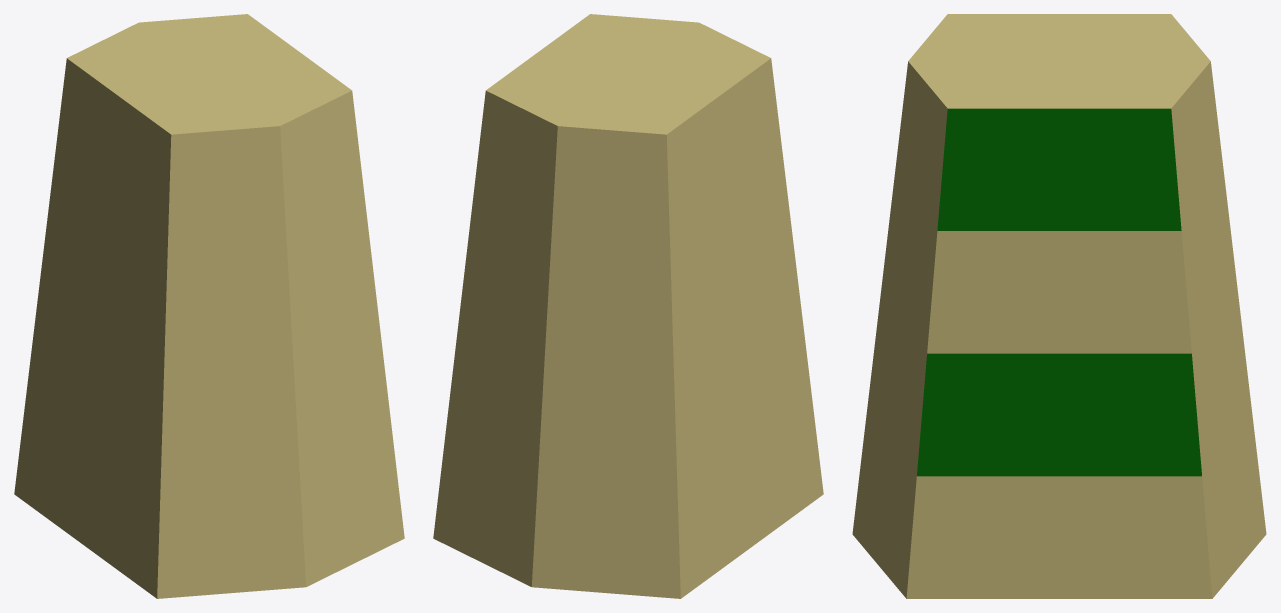
File: ScoutTorso.fbx
3 renders of one model, left to right at view 1: azimuth 30°, elevation 25°; view 2: azimuth 150°, elevation 25°; view 3: azimuth 270°, elevation 25°, orthographic. The views are drawn at different scales.
Visible parts, largest first — view 1: Scout Tunic; view 2: Scout Tunic; view 3: Scout Tunic.
Part boxes in pixels (box(x1,y1,x2,y2)): Scout Tunic: box(14, 14, 404, 598); Scout Tunic: box(433, 14, 823, 598); Scout Tunic: box(852, 14, 1266, 598).
Size of the model in its own units: 217 by 371 by 294.
